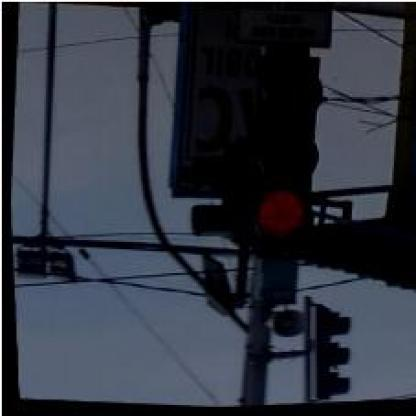red: (238, 52, 323, 248)
